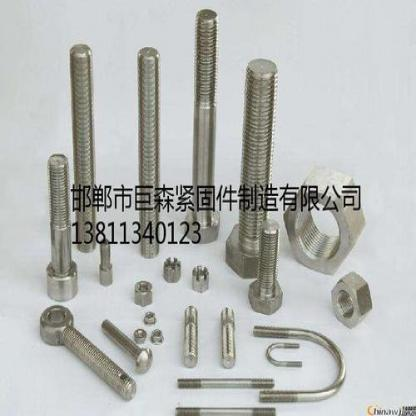FOD: (223, 58, 280, 278), (38, 302, 138, 402), (182, 6, 223, 245), (284, 162, 367, 276), (44, 150, 78, 304), (246, 217, 284, 315), (101, 316, 154, 375), (329, 268, 373, 330), (95, 237, 115, 287)
